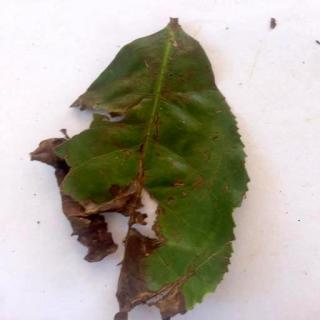Brown Blight: (30, 18, 252, 320)
